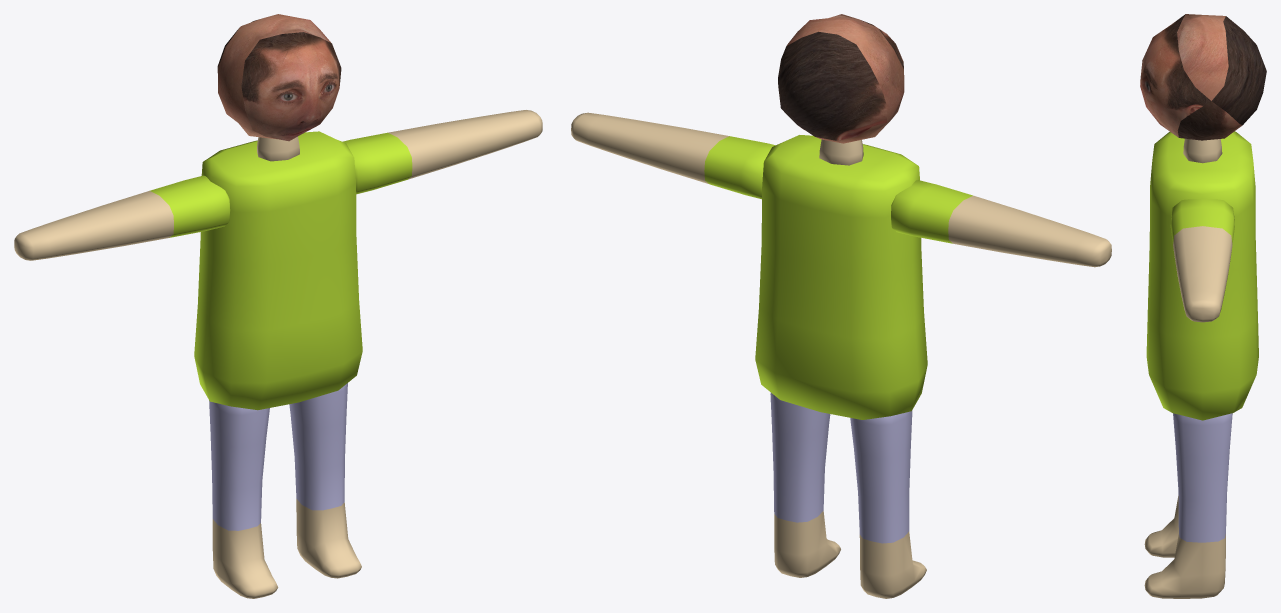
File: Character_h_3.fbx
3 renders of one model, left to right at view 1: azimuth 30°, elevation 25°; view 2: azimuth 150°, elevation 25°; view 3: azimuth 270°, elevation 25°, orthographic. The views are drawn at different scales.
Parts seen in each view (by area): view 1: Cube, Icosphere, Cube.003, Cube.004, Cube.005, Cube.002, Cube.001; view 2: Cube, Icosphere, Cube.004, Cube.003, Cube.005, Cube.002, Cube.001; view 3: Cube, Icosphere, Cube.005, Cube.002, Cube.003, Cube.001.
Boxes of the visible parts, left/top/right/bottom form: Cube: left=194, top=131, right=362, bottom=410; Icosphere: left=217, top=14, right=341, bottom=141; Cube.003: left=209, top=400, right=278, bottom=598; Cube.004: left=14, top=175, right=230, bottom=260; Cube.005: left=289, top=383, right=361, bottom=578; Cube.002: left=343, top=110, right=542, bottom=194; Cube.001: left=257, top=136, right=299, bottom=161; Cube: left=755, top=135, right=927, bottom=419; Icosphere: left=778, top=14, right=904, bottom=143; Cube.004: left=891, top=180, right=1111, bottom=267; Cube.003: left=850, top=410, right=926, bottom=598; Cube.005: left=770, top=392, right=840, bottom=577; Cube.002: left=571, top=112, right=775, bottom=199; Cube.001: left=819, top=139, right=863, bottom=165; Cube: left=1146, top=131, right=1258, bottom=420; Icosphere: left=1140, top=14, right=1266, bottom=140; Cube.005: left=1144, top=413, right=1232, bottom=598; Cube.002: left=1170, top=199, right=1234, bottom=322; Cube.003: left=1144, top=495, right=1178, bottom=557; Cube.001: left=1183, top=138, right=1222, bottom=163.
Bounding box in the file's own units: 516 × 523 × 109.
4 materials, 1 textured.
